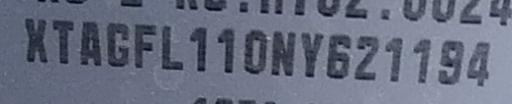letter: (464, 35, 492, 86), (436, 38, 464, 86), (132, 20, 158, 71), (23, 15, 49, 63), (50, 17, 76, 65), (105, 19, 131, 67), (242, 27, 268, 75), (270, 28, 296, 76), (325, 31, 351, 78), (353, 33, 379, 80), (300, 28, 324, 78), (78, 18, 102, 66), (160, 23, 184, 71), (188, 22, 208, 72), (410, 35, 430, 85), (216, 25, 236, 73), (384, 35, 404, 83)
